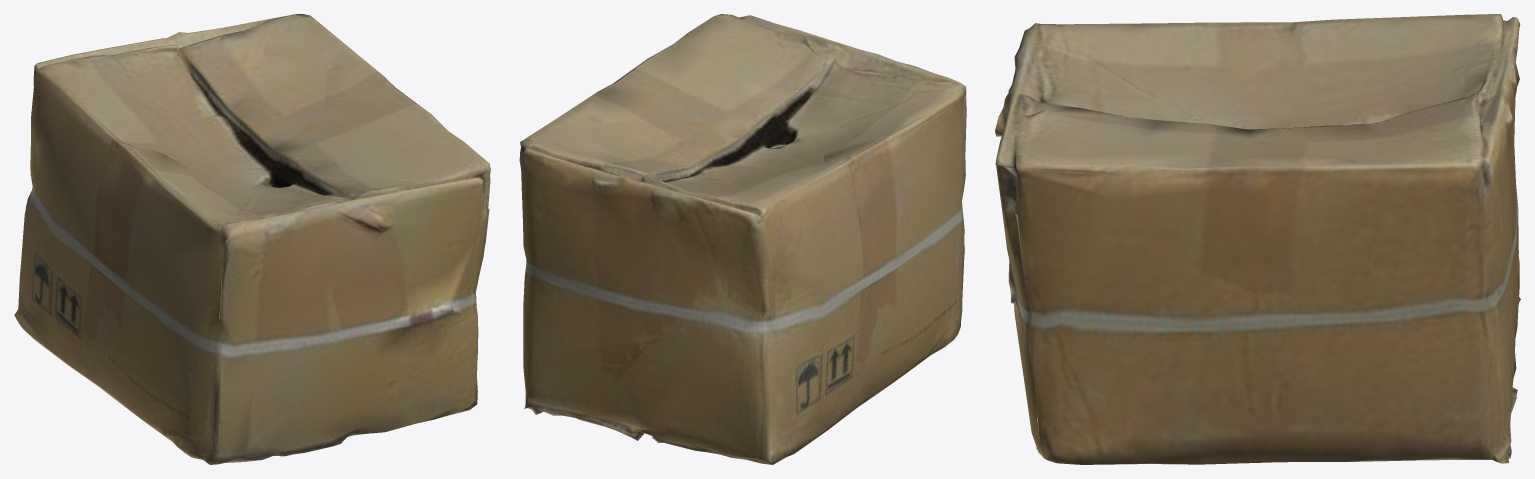
File: ph_cardboard_box_01.glb
The picture shows the model from 3 angles, left to right: view 1: azimuth 30°, elevation 25°; view 2: azimuth 150°, elevation 25°; view 3: azimuth 270°, elevation 25°; orthographic projection. The views are drawn at different scales.
Parts seen in each view (by area): view 1: cardboard_box_01; view 2: cardboard_box_01; view 3: cardboard_box_01.
Boxes of the visible parts, left/top/right/bottom form: cardboard_box_01: left=14, top=14, right=490, bottom=464; cardboard_box_01: left=519, top=14, right=966, bottom=464; cardboard_box_01: left=995, top=14, right=1520, bottom=464.
Bounding box in the file's own units: 0.3871 × 0.3414 × 0.5157.
1 material, 1 textured.
